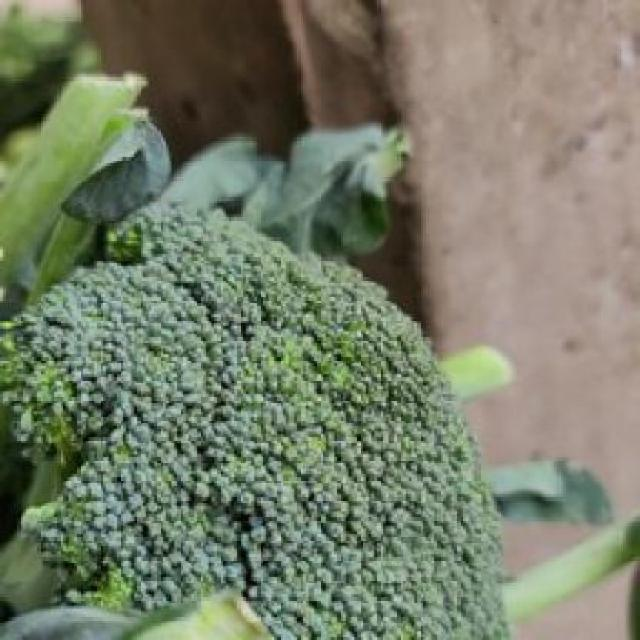broccoli: (14, 217, 506, 632)
